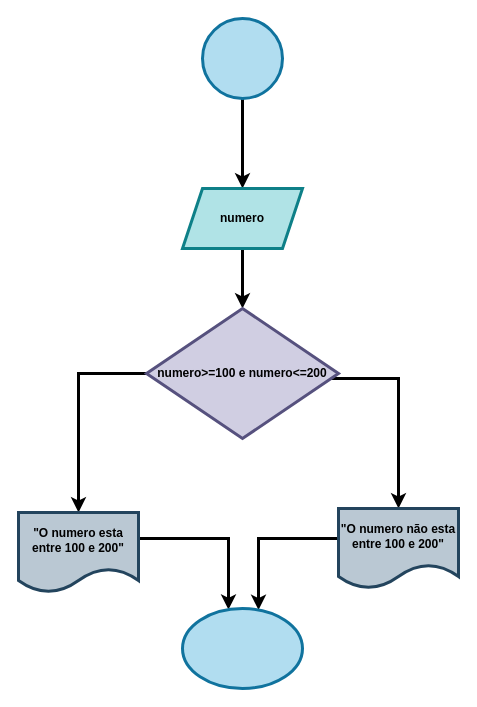
Image size: 477x707. Some labels were removed from this diagram. The box of each missing label's shape, as (x1, y1, x2, y2) in pixels:
Fim: (180, 606, 304, 690)
Inicio: (200, 16, 284, 100)
